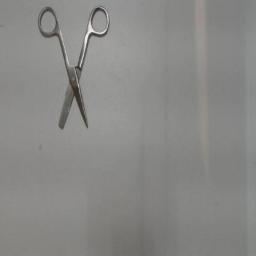Dressing Scissors: (34, 2, 114, 138)
